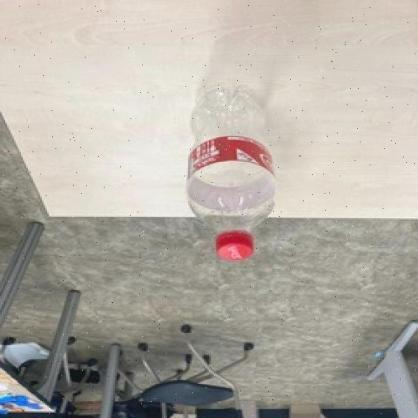bottle: (182, 81, 281, 265)
cap: (212, 228, 259, 264)
label: (181, 135, 290, 186)
